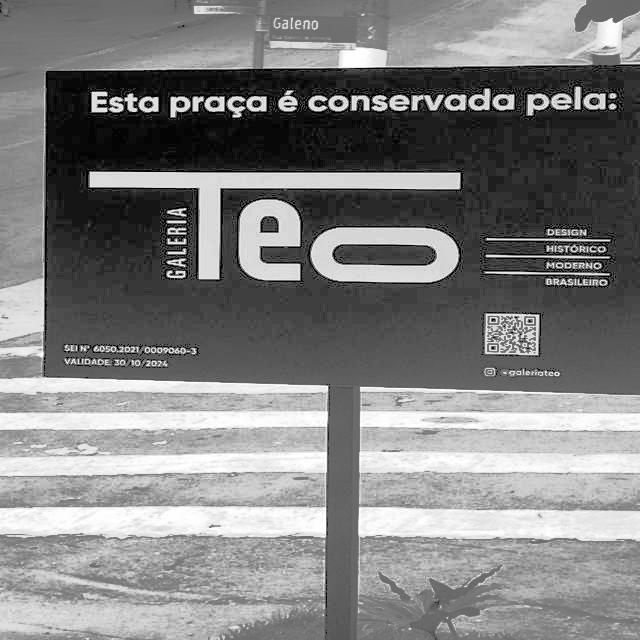qr_code: (488, 315, 537, 354)
